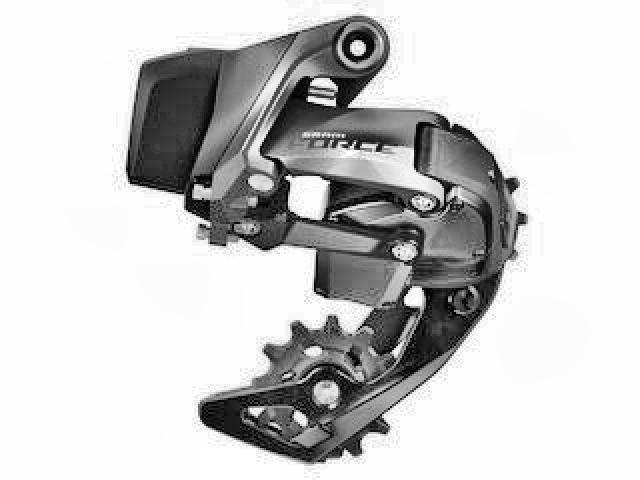rear_derailleur: (124, 14, 527, 470)
